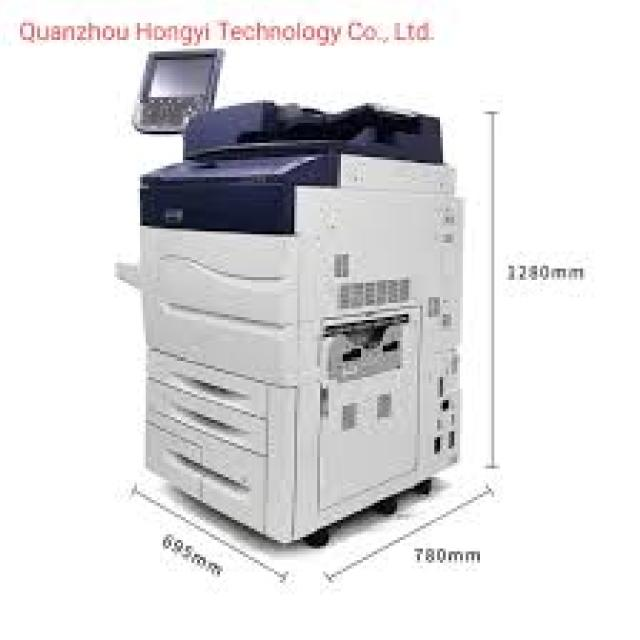printer: (111, 46, 466, 546)
